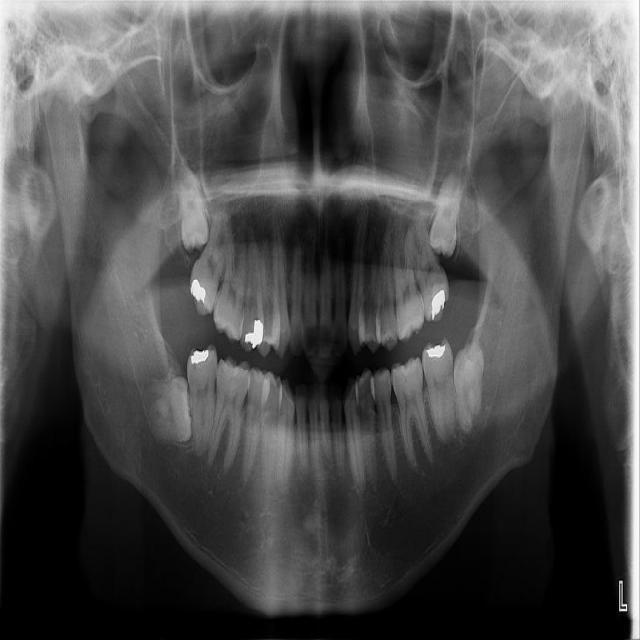Filling: (244, 313, 264, 345), (428, 287, 447, 320), (185, 347, 213, 368), (189, 276, 208, 305), (423, 341, 449, 361)
impacted tooth: (430, 165, 467, 256), (141, 376, 191, 441), (179, 162, 207, 254), (454, 342, 482, 433)
